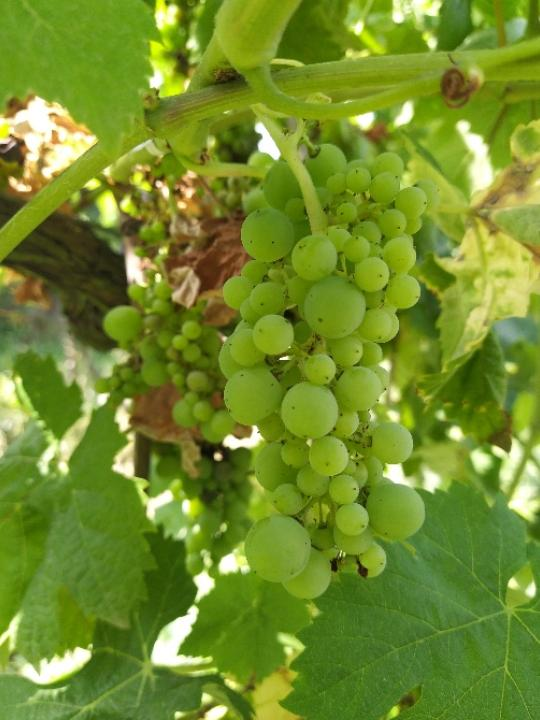grape: (217, 139, 431, 601)
